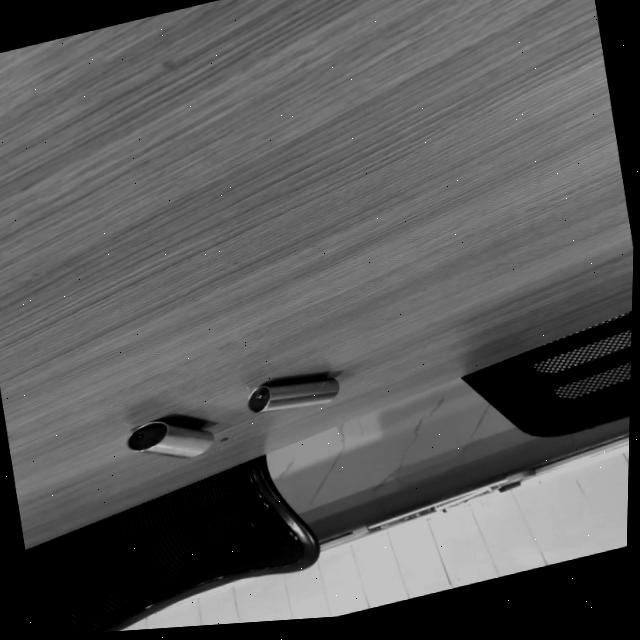Co_Lon: (125, 412, 214, 465)
Co_Nho: (245, 374, 339, 412)
